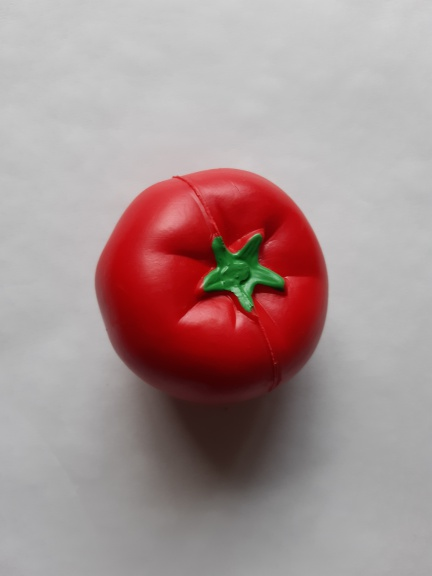tomato: (87, 159, 340, 423)
